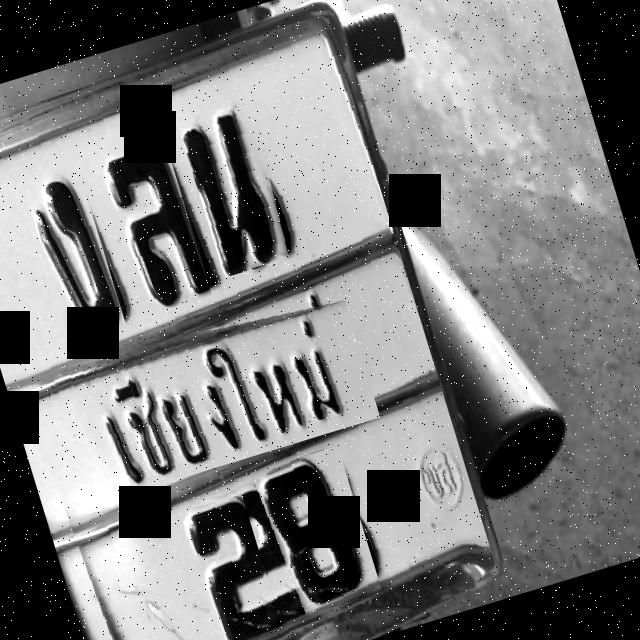letters: (250, 446, 382, 620), (91, 131, 212, 316), (178, 102, 298, 278), (20, 160, 129, 352), (164, 492, 287, 640)
license-plate: (0, 15, 501, 640)
province: (59, 279, 380, 502)
